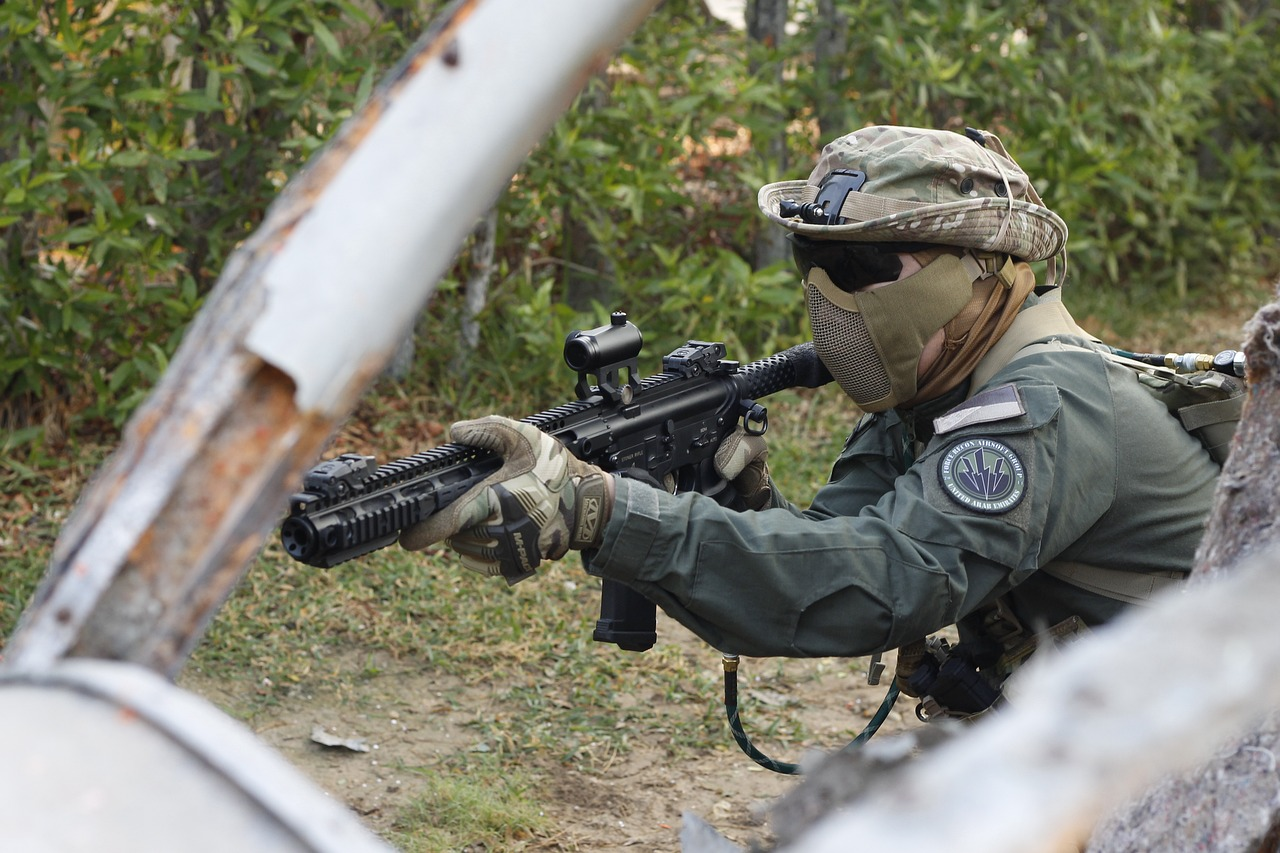gun: (275, 302, 841, 653)
